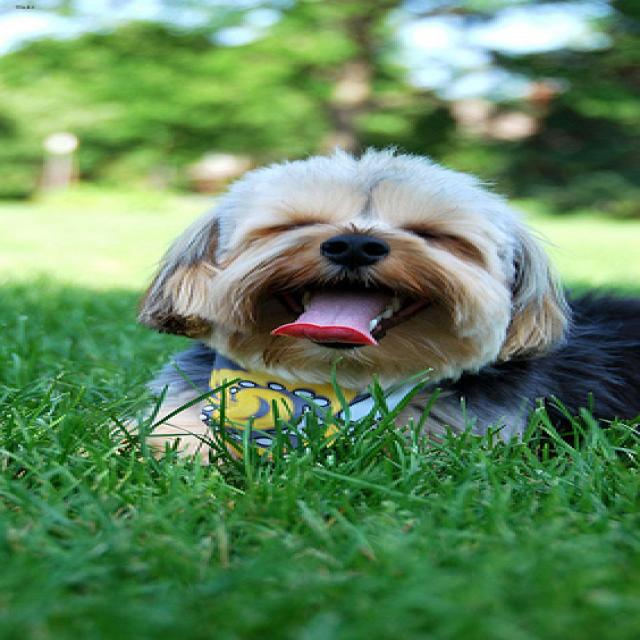dog-yorkshire_terrier: (77, 141, 635, 485)
